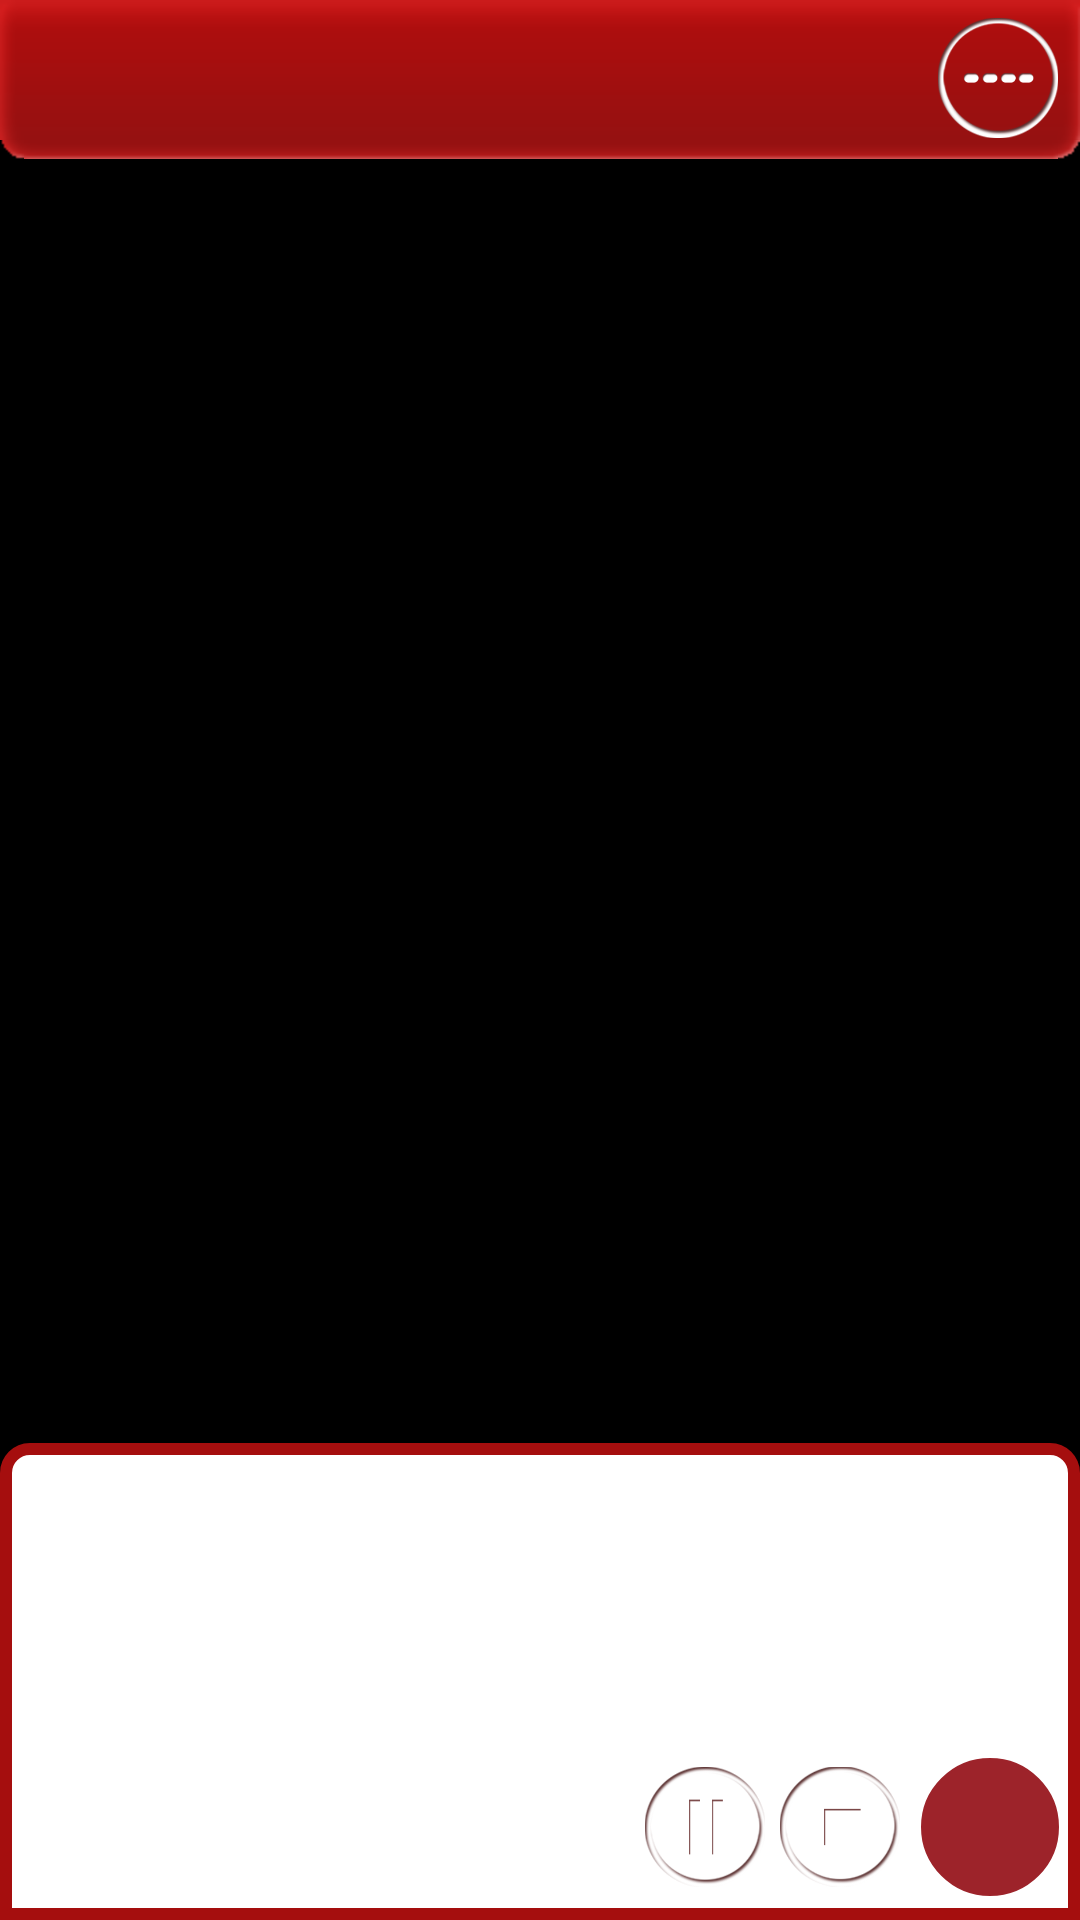

Icon bounding boxes for this 1080 × 1920 phone screenshot, format (x1, y1, x2, y2):
pause: (645, 1767, 763, 1883)
